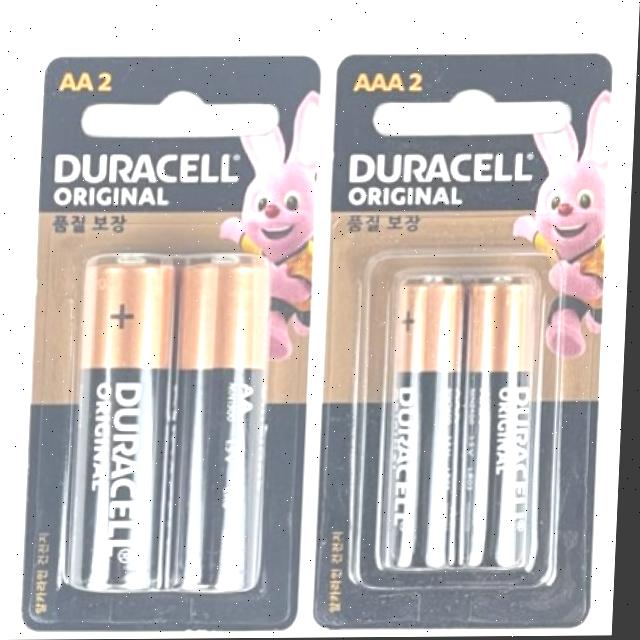battery: (163, 249, 275, 596), (78, 249, 172, 605), (452, 260, 552, 574), (373, 267, 464, 588)
